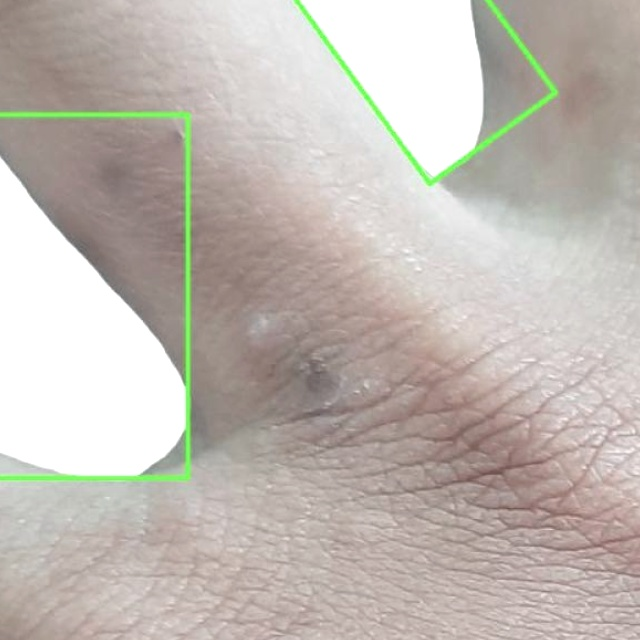Scabies: (0, 114, 187, 478), (296, 0, 556, 184)
